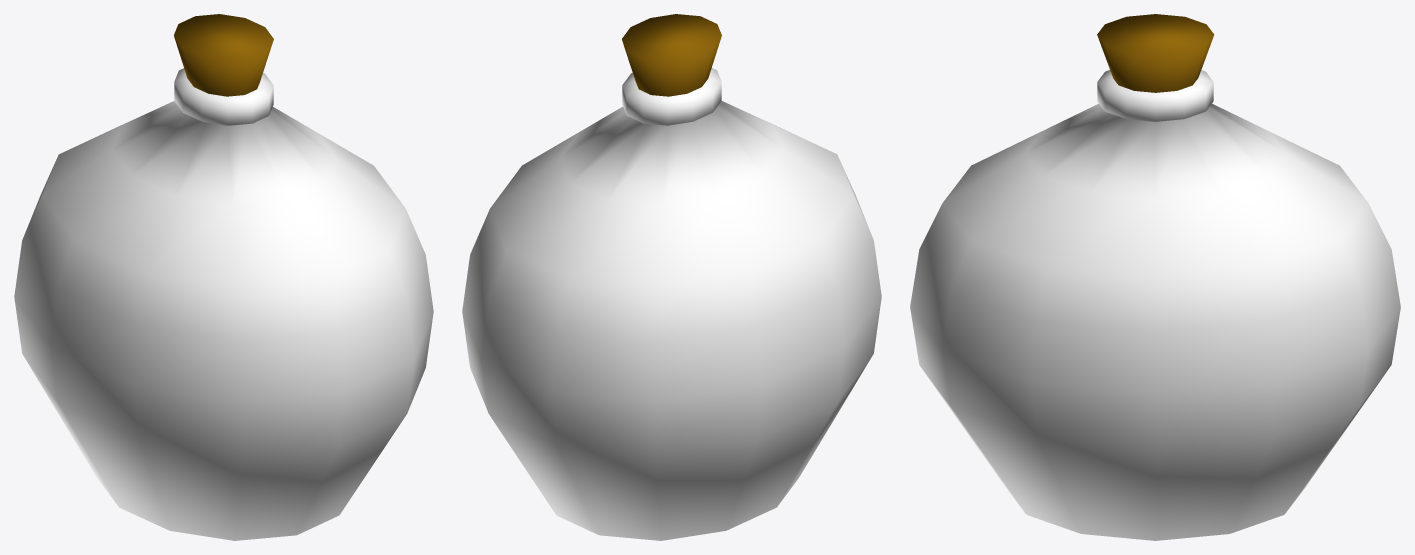
File: PotionBig.fbx
3 renders of one model, left to right at view 1: azimuth 30°, elevation 25°; view 2: azimuth 150°, elevation 25°; view 3: azimuth 270°, elevation 25°, orthographic. The views are drawn at different scales.
Parts seen in each view (by area): view 1: PotionBig, PotionBigCork__1_; view 2: PotionBig, PotionBigCork__1_; view 3: PotionBig, PotionBigCork__1_.
Part boxes in pixels (bbox=[...]): PotionBig: bbox=[14, 68, 433, 540]; PotionBigCork__1_: bbox=[174, 14, 273, 96]; PotionBig: bbox=[462, 68, 881, 540]; PotionBigCork__1_: bbox=[622, 14, 721, 96]; PotionBig: bbox=[910, 70, 1400, 540]; PotionBigCork__1_: bbox=[1097, 14, 1214, 92].
Size of the model in its own units: 101 by 124 by 122.
